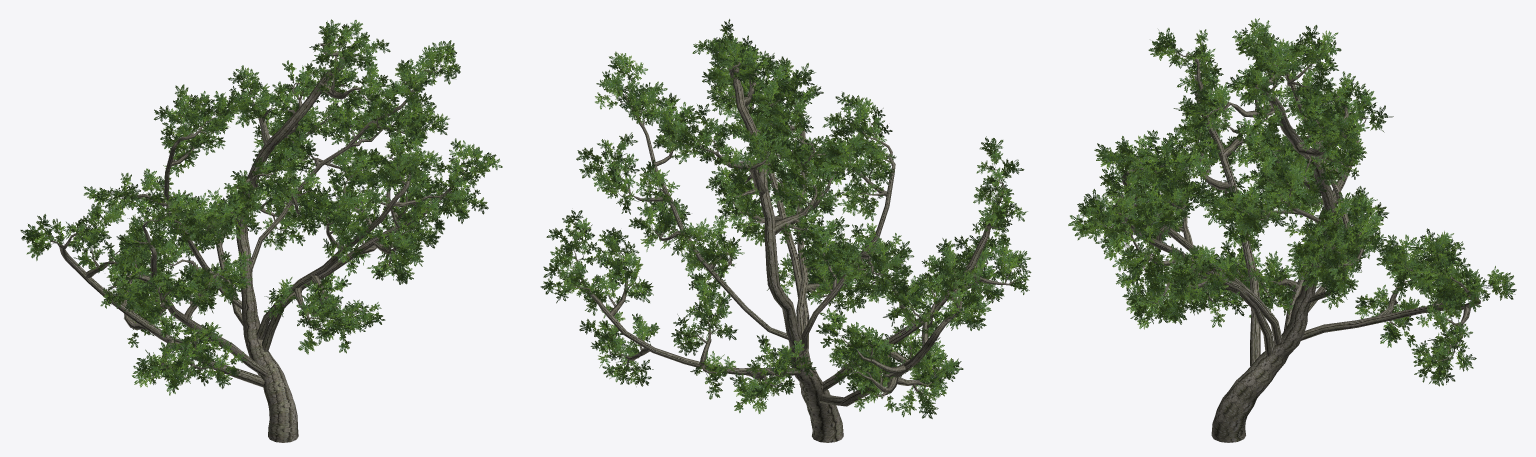
Rendered from tree (4).glb.
The picture shows the model from 3 angles, left to right: view 1: azimuth 30°, elevation 25°; view 2: azimuth 150°, elevation 25°; view 3: azimuth 270°, elevation 25°; orthographic projection. The views are drawn at different scales.
Visible parts, largest first — view 1: Tree; view 2: Tree; view 3: Tree.
Part boxes in pixels (x1,y1,x2,y2): Tree: [20, 19, 502, 442]; Tree: [540, 19, 1031, 442]; Tree: [1068, 18, 1516, 442].
Size of the model in its own units: 73.05 by 65.97 by 61.57.
Materials: 2 (2 with a texture image).
